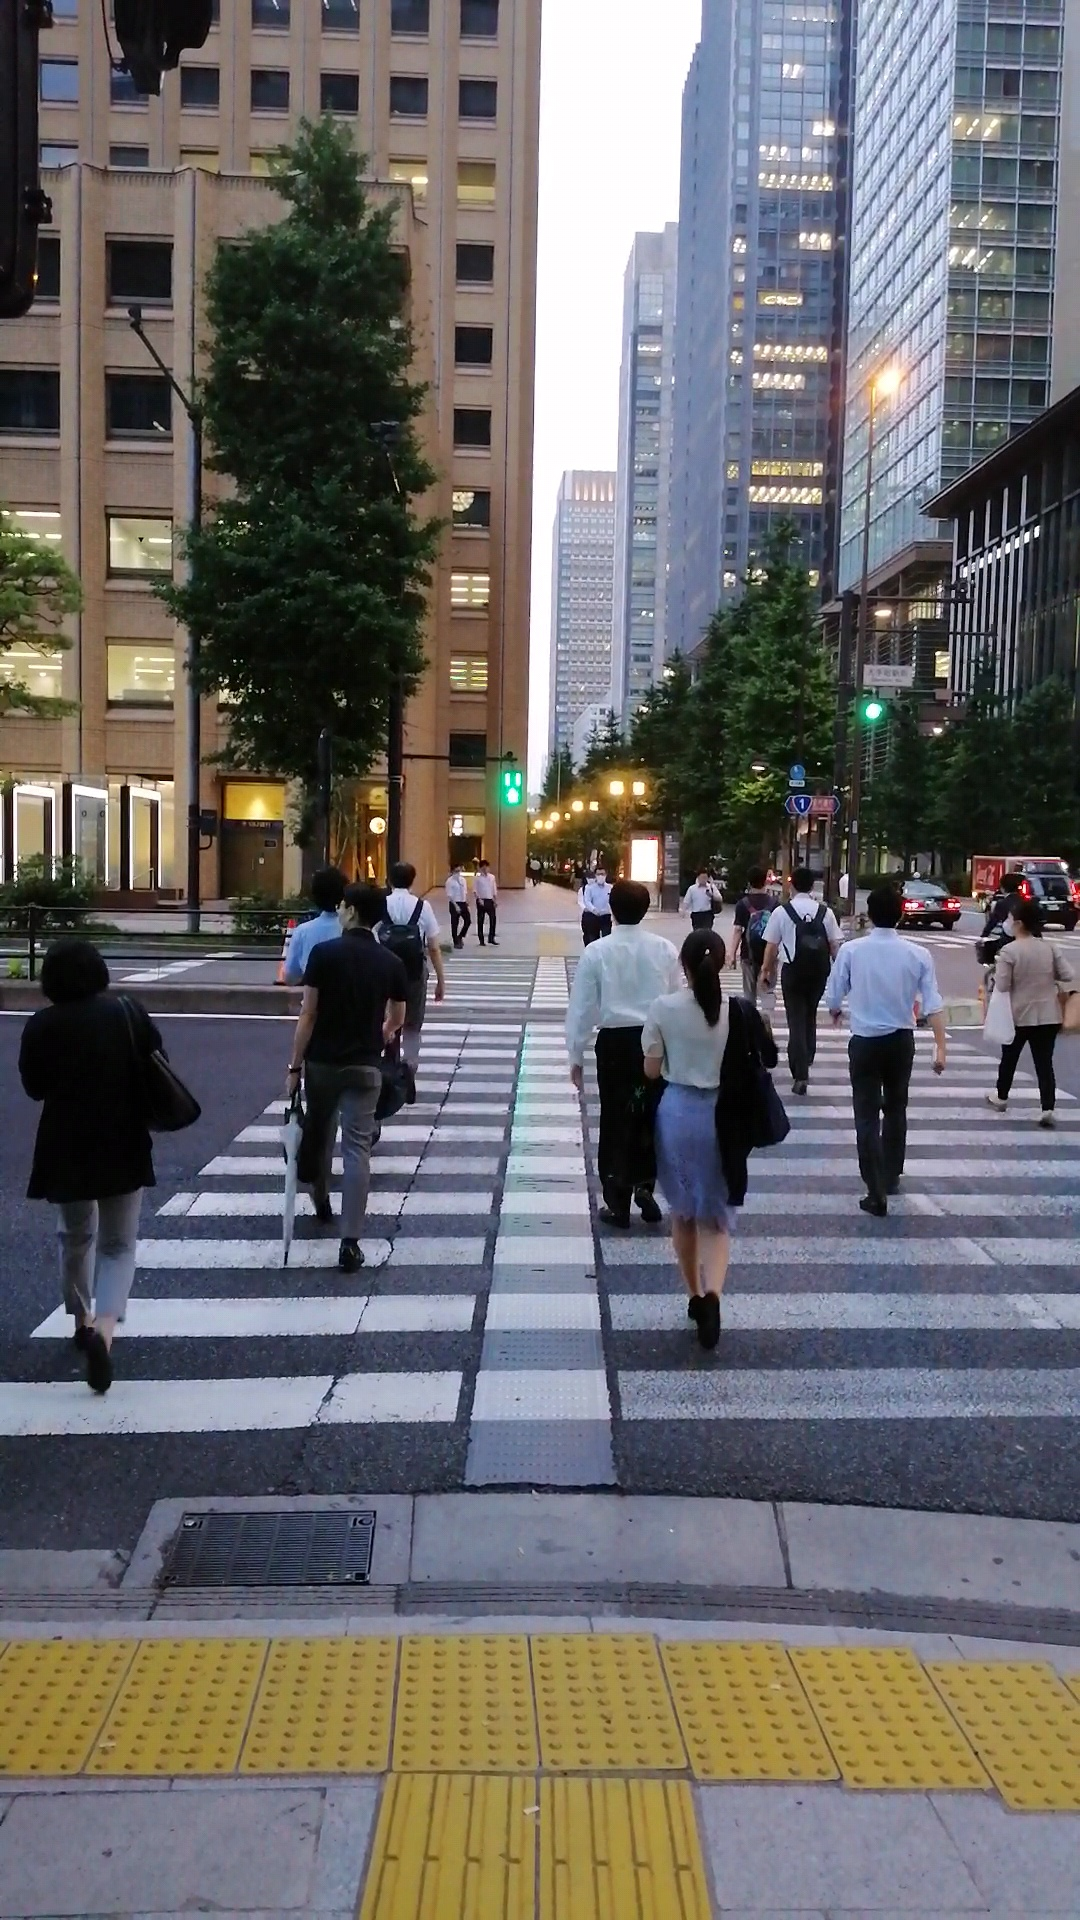green: (500, 767, 524, 807)
